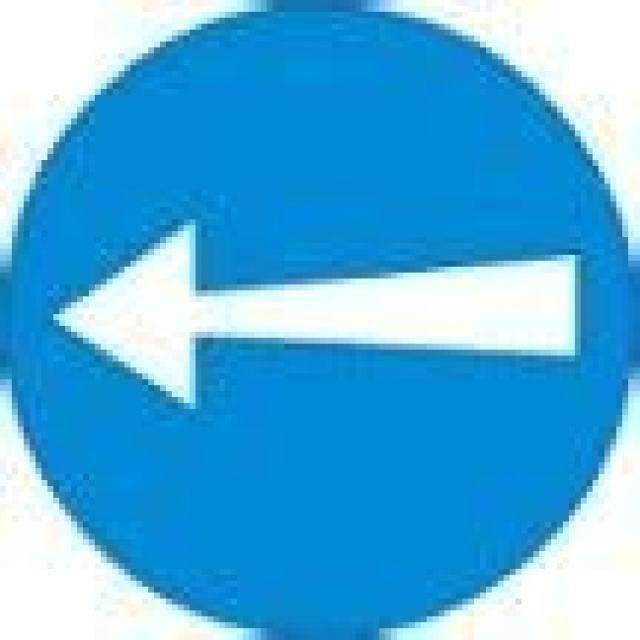COMPULSARY_TURN_LEFT: (0, 0, 634, 634)
